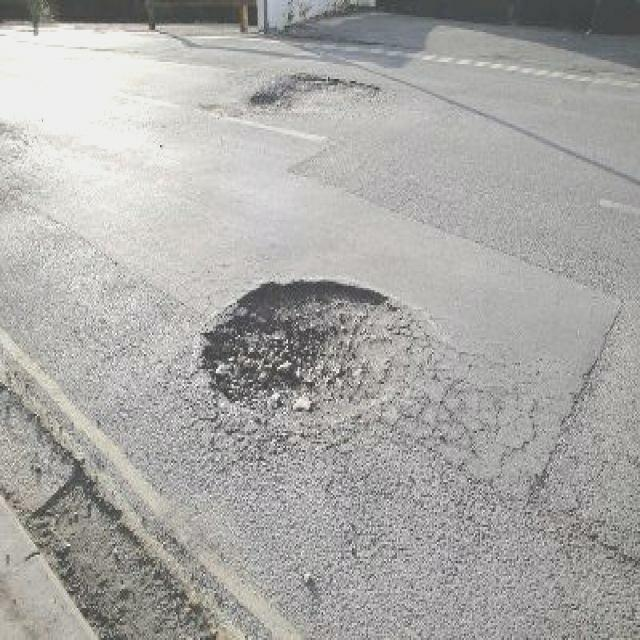Pothole: (27, 461, 227, 636), (198, 273, 422, 420), (246, 66, 389, 119)
